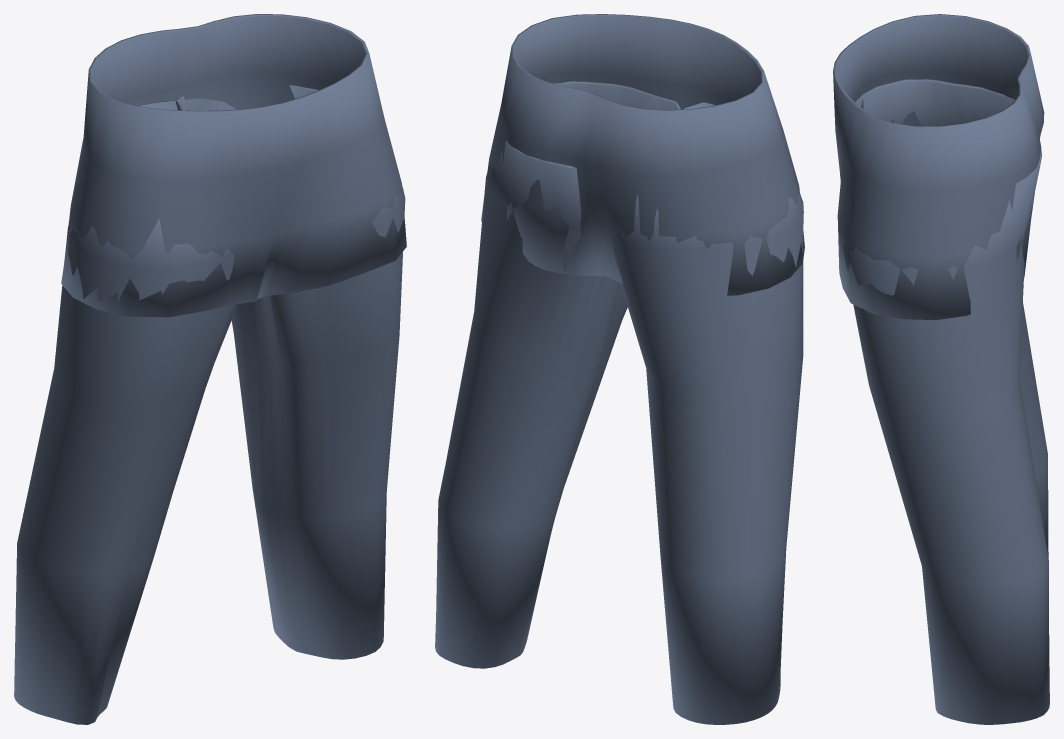
Rendered from shorts_base.glb.
3 renders of one model, left to right at view 1: azimuth 30°, elevation 25°; view 2: azimuth 150°, elevation 25°; view 3: azimuth 270°, elevation 25°, orthographic. The views are drawn at different scales.
Parts seen in each view (by area): view 1: chinos; view 2: chinos; view 3: chinos.
Part boxes in pixels (x1,y1,x2,y2): chinos: [14, 14, 406, 724]; chinos: [435, 14, 804, 724]; chinos: [833, 14, 1049, 724].
Size of the model in its own units: 0.4839 by 0.8315 by 0.2814.
